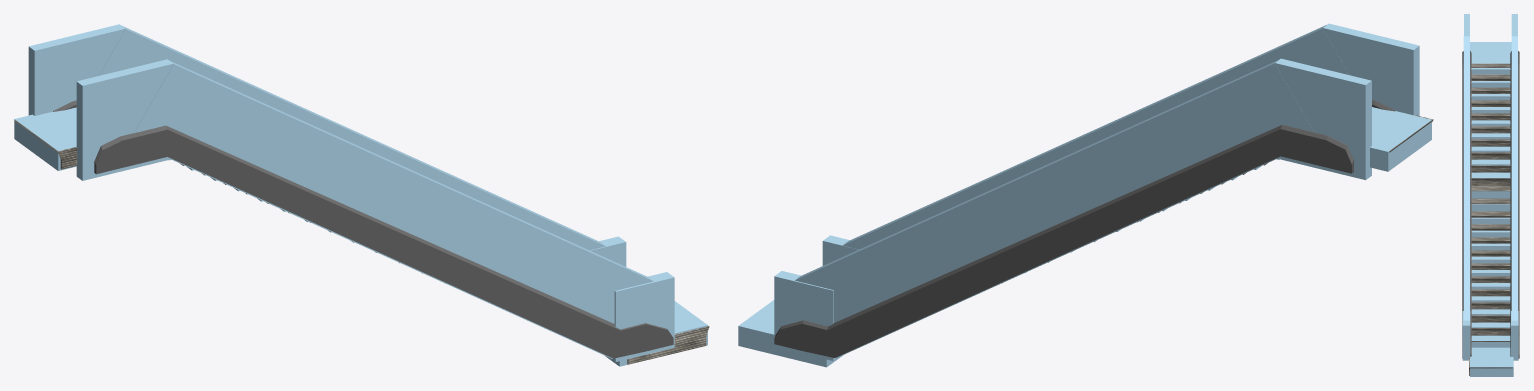
The model's file is escalator.obj.
3 renders of one model, left to right at view 1: azimuth 30°, elevation 25°; view 2: azimuth 150°, elevation 25°; view 3: azimuth 270°, elevation 25°, orthographic. The views are drawn at different scales.
Visible parts, largest first — view 1: bb_cube2, escalier, bb_cube7, bb_cube3, bb_cube4, bb_cube5, bb_cube8, bb_cube9, bb_cube6; view 2: bb_cube7, escalier, bb_cube2, bb_cube4, bb_cube3, bb_cube6, bb_cube8, bb_cube9, bb_cube5; view 3: escalier, bb_cube1, bb_cube2, bb_cube7, bb_cube9, bb_cube8, bb_cube5, bb_cube6, bb_cube4, bb_cube3.
Part boxes in pixels (bbox=[...]): bb_cube2: bbox=[134, 60, 653, 358]; escalier: bbox=[14, 100, 709, 364]; bb_cube7: bbox=[99, 25, 605, 250]; bb_cube3: bbox=[76, 59, 173, 180]; bb_cube4: bbox=[28, 24, 125, 115]; bb_cube5: bbox=[612, 272, 674, 361]; bb_cube8: bbox=[14, 107, 76, 170]; bb_cube9: bbox=[605, 301, 707, 366]; bb_cube6: bbox=[590, 236, 626, 266]; bb_cube7: bbox=[795, 60, 1313, 357]; escalier: bbox=[774, 100, 1433, 357]; bb_cube2: bbox=[843, 25, 1349, 249]; bb_cube4: bbox=[1275, 58, 1371, 180]; bb_cube3: bbox=[1322, 23, 1419, 115]; bb_cube6: bbox=[774, 271, 837, 360]; bb_cube8: bbox=[1370, 107, 1431, 171]; bb_cube9: bbox=[738, 300, 843, 367]; bb_cube5: bbox=[822, 235, 858, 265]; escalier: bbox=[1462, 51, 1519, 375]; bb_cube1: bbox=[1471, 68, 1510, 347]; bb_cube2: bbox=[1463, 36, 1469, 320]; bb_cube7: bbox=[1511, 36, 1517, 320]; bb_cube9: bbox=[1470, 347, 1513, 376]; bb_cube8: bbox=[1470, 42, 1511, 63]; bb_cube5: bbox=[1462, 311, 1470, 360]; bb_cube6: bbox=[1511, 311, 1518, 360]; bb_cube4: bbox=[1511, 14, 1517, 36]; bb_cube3: bbox=[1464, 14, 1469, 36].
Bounding box in the file's own units: 8.52 × 5.22 × 1.31.
4 materials, 4 textured.
